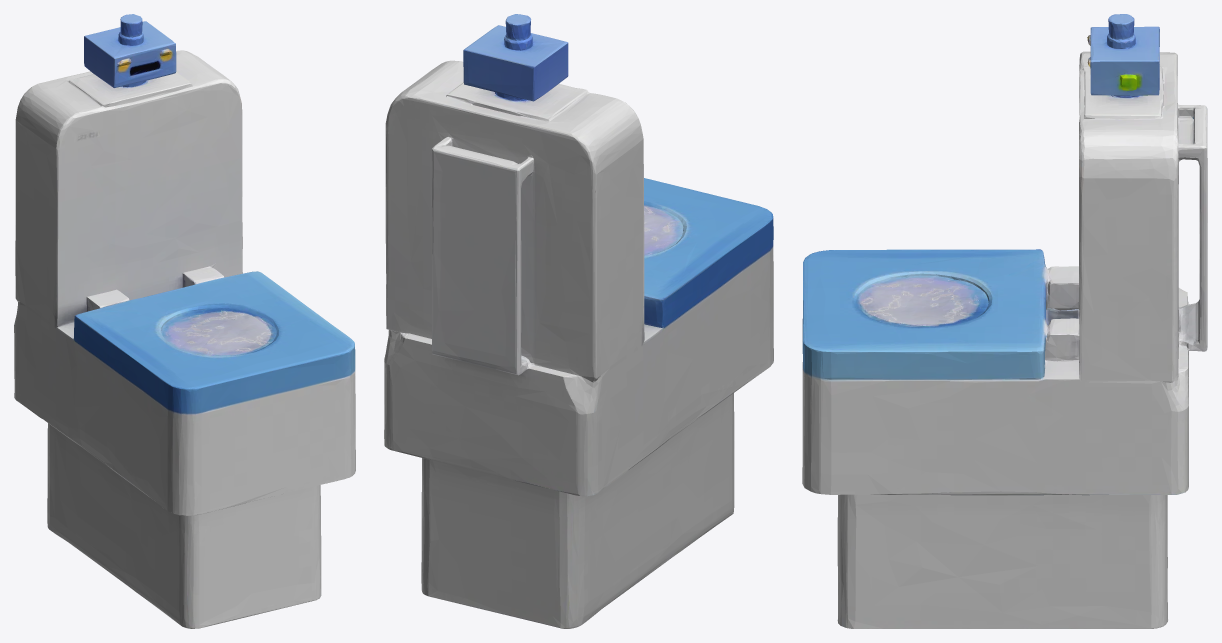
File: f806a3a7-b146-4af6-8c48-02a1cdab7f98.glb
The picture shows the model from 3 angles, left to right: view 1: azimuth 30°, elevation 25°; view 2: azimuth 150°, elevation 25°; view 3: azimuth 270°, elevation 25°; orthographic projection. The views are drawn at different scales.
Visible parts, largest first — view 1: world; view 2: world; view 3: world.
Part boxes in pixels (box(x1,y1,x2,y2)): world: box(14, 14, 355, 628); world: box(384, 14, 773, 628); world: box(802, 14, 1207, 628).
Size of the model in its own units: 0.3862 by 1 by 0.6428.
Materials: 1 (1 with a texture image).
